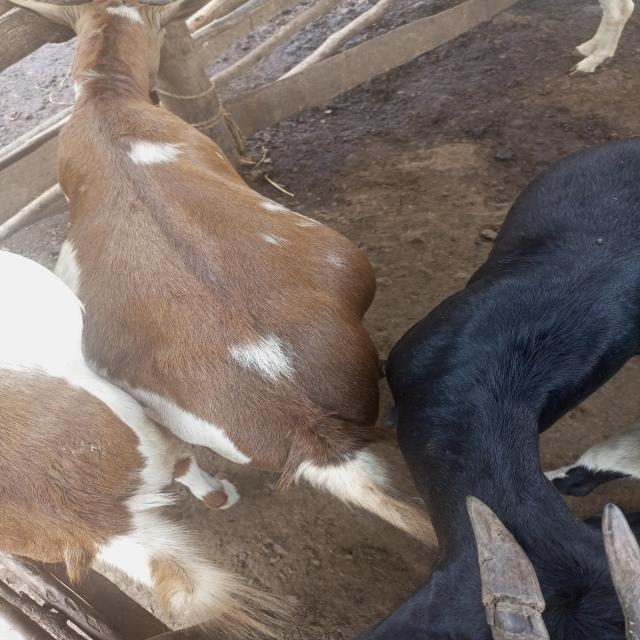goat: (28, 0, 452, 570)
